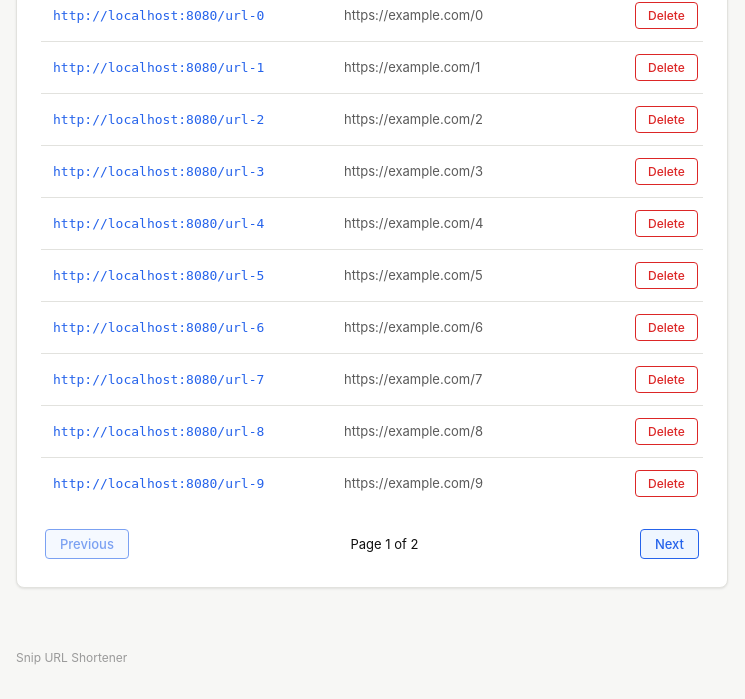
Test: URL pagination › returns to the first page after creating a URL
(page scrolled)
Expected: the button with aria-label "Delete url-0" is shown, [635,2,698,29]
Click the button "Next" at (669, 544), box [640,529,699,559]
(page scrolled)
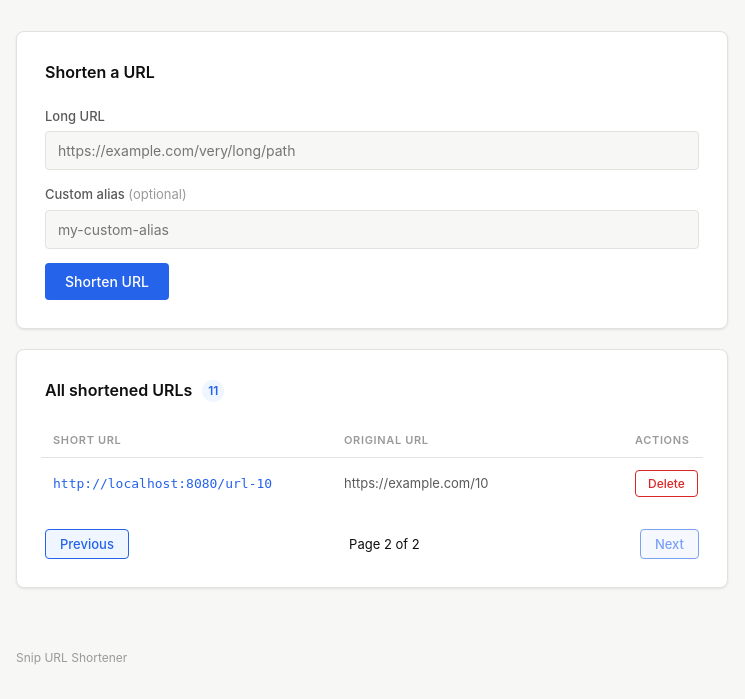
Expected: the button with aria-label "Delete url-10" is shown, [635,470,698,497]
Type "https://example.com/new" into the field labelled "Long URL" at (372, 151), box [45,131,699,170]
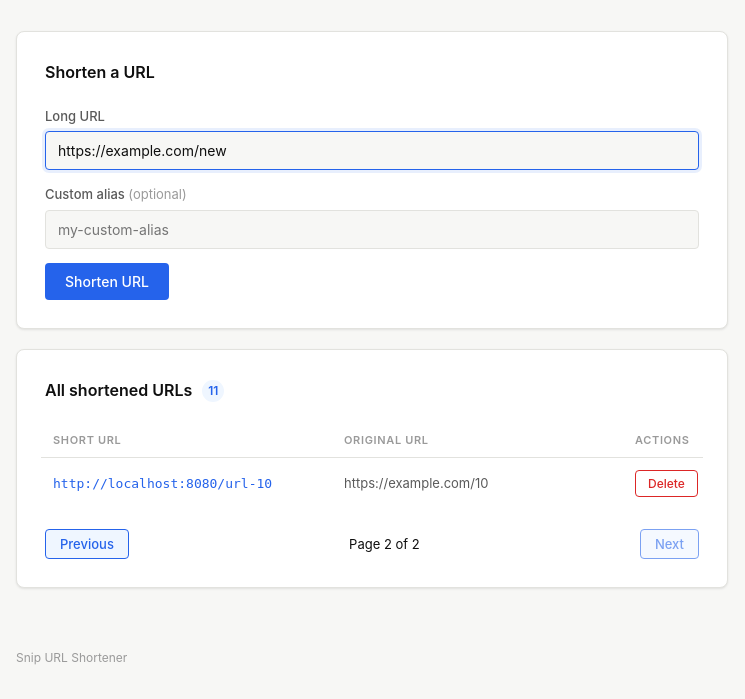
Type "new-link" into the field labelled "Custom alias (optional)" at (372, 230), box [45,210,699,249]
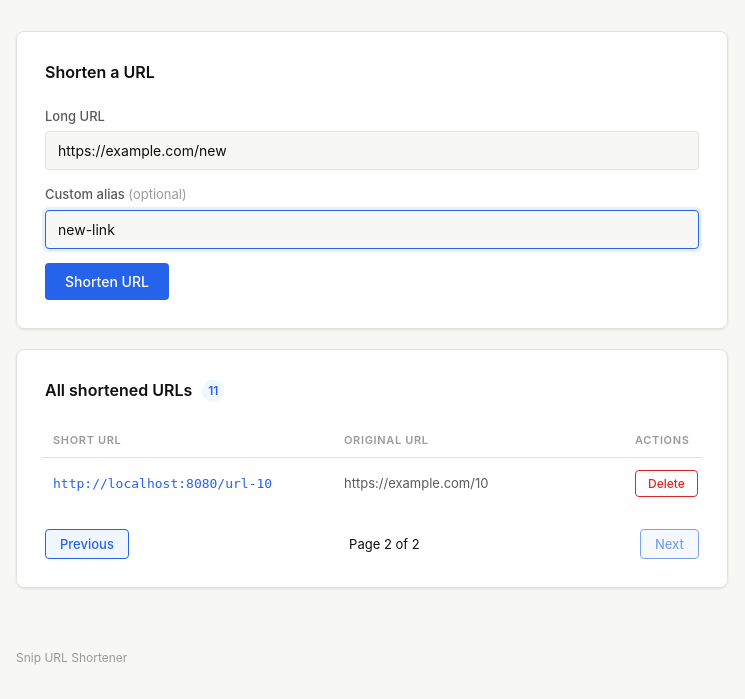
Click the button "Shorten URL" at (107, 282), box [45,263,169,300]
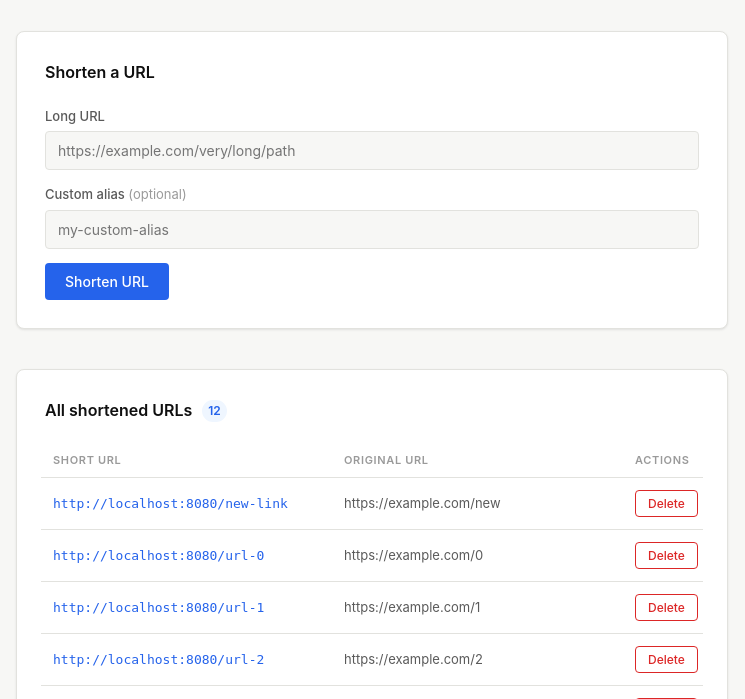
Result: the button with aria-label "Delete new-link" is shown at [635,490,698,517]
Result: the field labelled "Long URL" is empty at [45,131,699,170]
